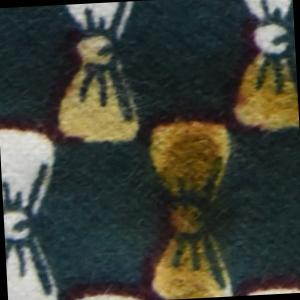Oil Stain: (34, 14, 300, 300)
